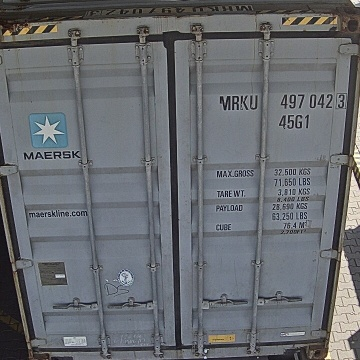serial_id: (219, 94, 346, 110)
